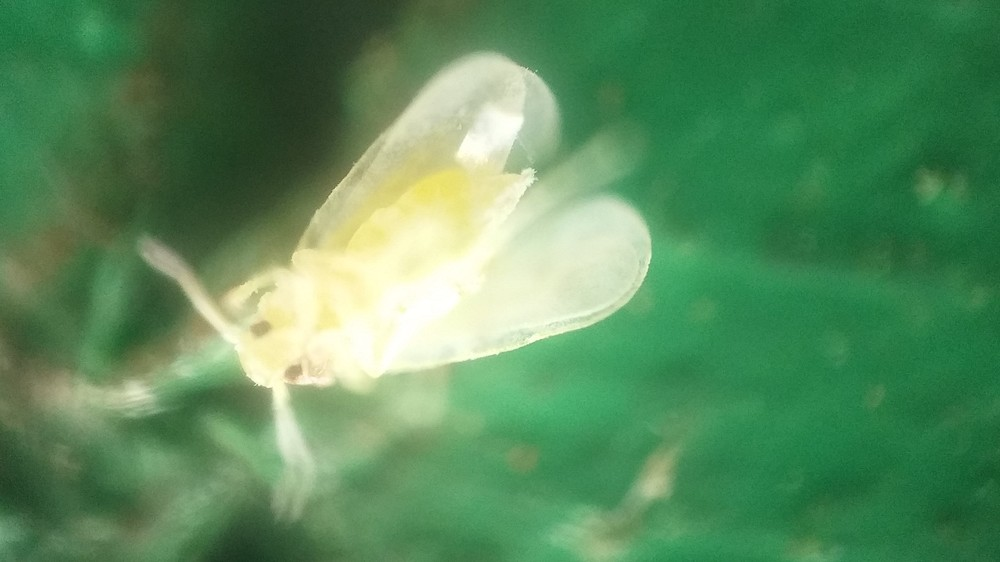Mosca Blanca: (110, 42, 697, 525)
